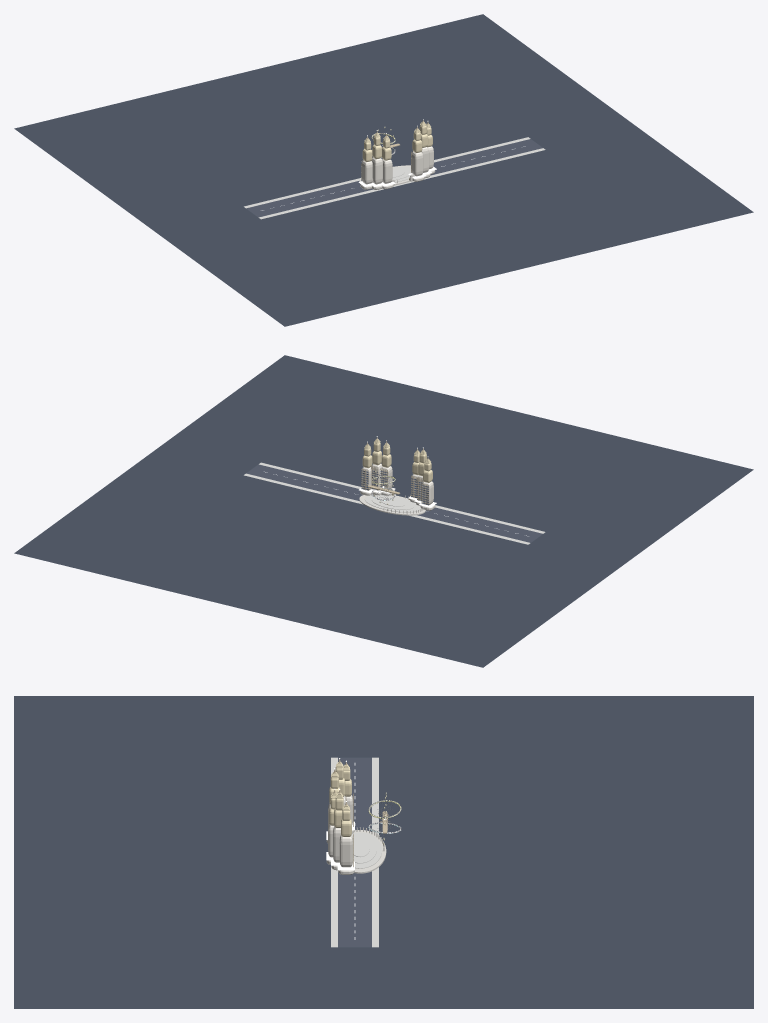
File: studio-v4.glb
3 views of the same model, one above another, from view 1: azimuth 30°, elevation 25°; view 2: azimuth 150°, elevation 25°; view 3: azimuth 270°, elevation 25° (orthographic). The views are drawn at different scales.
Parts seen in each view (by area): view 1: Ground, Avenue, Sidewalk_-1, Sidewalk_1; view 2: Ground, Avenue, Sidewalk_1, Sidewalk_-1; view 3: Ground, Avenue, Sidewalk_1, Sidewalk_-1.
Boxes of the visible parts, box(x1,y1,x2,y2) form: Ground: box(14, 14, 753, 326); Avenue: box(246, 139, 542, 217); Sidewalk_-1: box(258, 148, 545, 219); Sidewalk_1: box(244, 137, 530, 208); Ground: box(14, 355, 753, 667); Avenue: box(246, 464, 542, 542); Sidewalk_1: box(244, 473, 530, 544); Sidewalk_-1: box(259, 462, 545, 533); Ground: box(14, 696, 753, 1008); Avenue: box(338, 757, 371, 947); Sidewalk_1: box(372, 757, 378, 947); Sidewalk_-1: box(331, 757, 337, 947).
Size of the model in its own units: 560 by 66 by 560.
